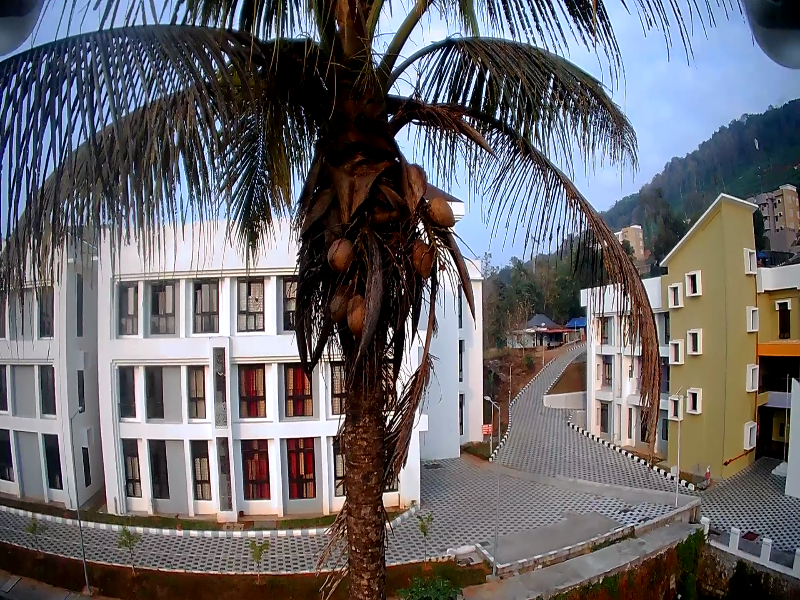coconut: (423, 186, 453, 229), (324, 240, 348, 272), (404, 240, 426, 273), (346, 293, 362, 329), (321, 289, 339, 316)
